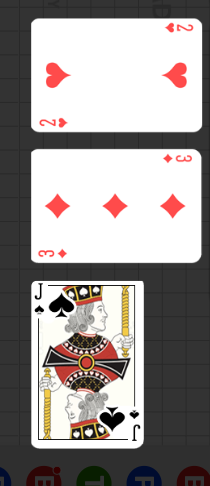2H: (38, 116, 70, 129)
3D: (37, 247, 69, 259)
7S: (129, 408, 143, 442)
